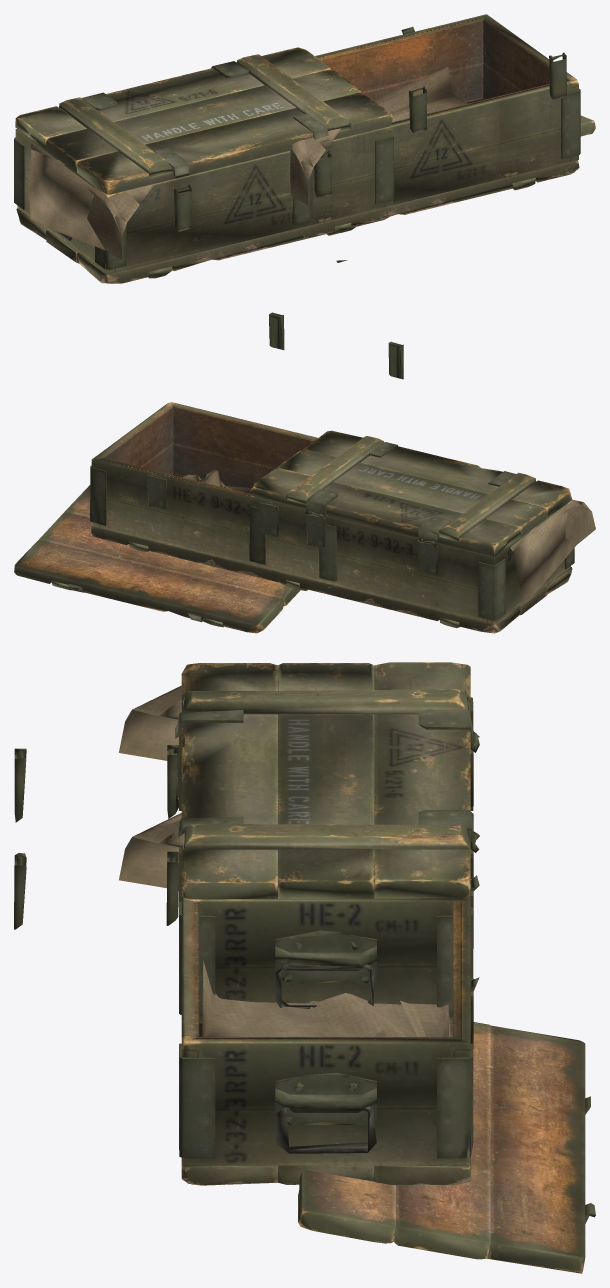
The model's file is crateLong.glb.
The picture shows the model from 3 angles, top to bottom: view 1: azimuth 30°, elevation 25°; view 2: azimuth 150°, elevation 25°; view 3: azimuth 270°, elevation 25°; orthographic projection. The views are drawn at different scales.
Parts seen in each view (by area): view 1: old_military_crate_lid_a; view 2: old_military_crate_lid_a; view 3: old_military_crate_lid_a.
Boxes of the visible parts, x1,y1,x2,y2 form: old_military_crate_lid_a: (14,14,595,283); old_military_crate_lid_a: (14,312,595,633); old_military_crate_lid_a: (14,662,595,1273).
Size of the model in its own units: 1.44 by 0.5844 by 0.8659.
1 material, 1 textured.
